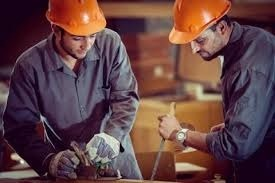helmet: (163, 1, 234, 47), (42, 1, 112, 38)
person with partial safety: (13, 1, 143, 165), (162, 1, 275, 133)
